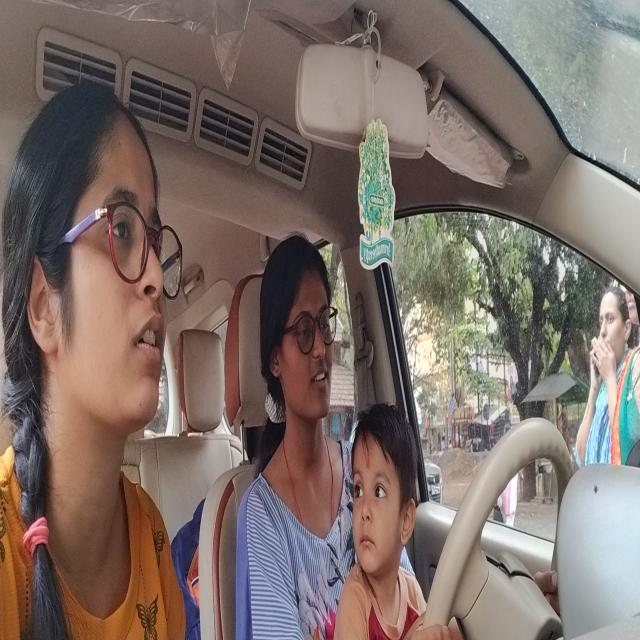child: (348, 405, 418, 578)
person: (4, 60, 187, 464), (260, 232, 339, 438)
